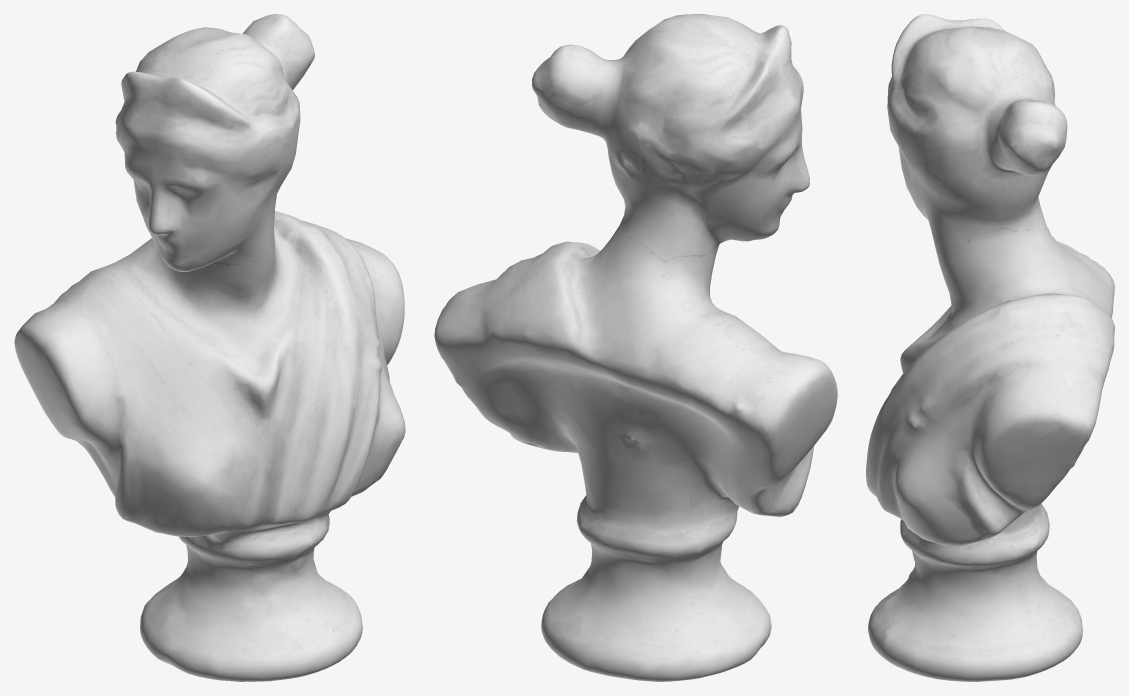
The model's file is statu.gltf.
3 renders of one model, left to right at view 1: azimuth 30°, elevation 25°; view 2: azimuth 150°, elevation 25°; view 3: azimuth 270°, elevation 25°, orthographic. The views are drawn at different scales.
Parts seen in each view (by area): view 1: Aset_antique_sculpture_S_ugsifedhw_LOD0; view 2: Aset_antique_sculpture_S_ugsifedhw_LOD0; view 3: Aset_antique_sculpture_S_ugsifedhw_LOD0.
Boxes of the visible parts, bbox=[...] form: Aset_antique_sculpture_S_ugsifedhw_LOD0: bbox=[14, 14, 405, 681]; Aset_antique_sculpture_S_ugsifedhw_LOD0: bbox=[434, 14, 837, 681]; Aset_antique_sculpture_S_ugsifedhw_LOD0: bbox=[866, 14, 1114, 681].
Bounding box in the file's own units: 1.33 × 2.18 × 0.8325.
1 material, 1 textured.
